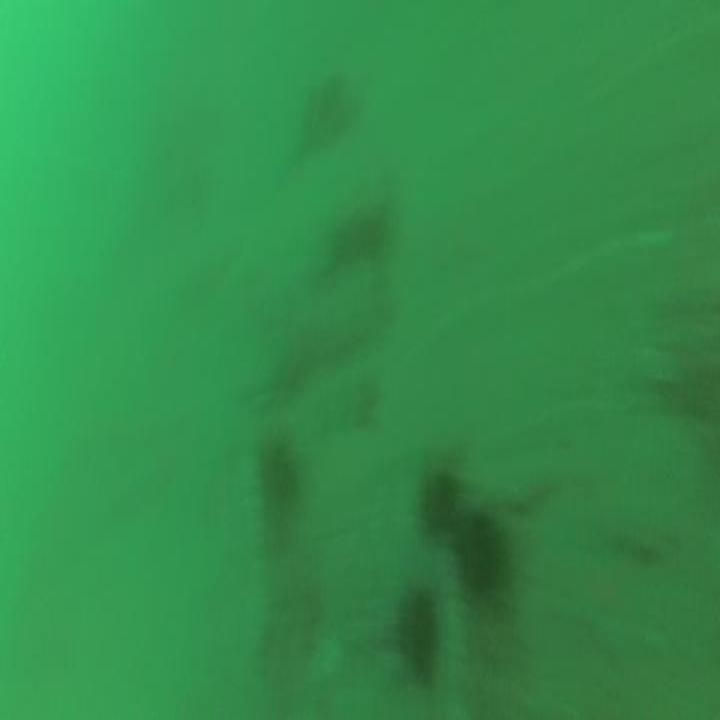echinus: (390, 574, 445, 692), (451, 501, 510, 603), (414, 453, 464, 544), (261, 434, 301, 532)
